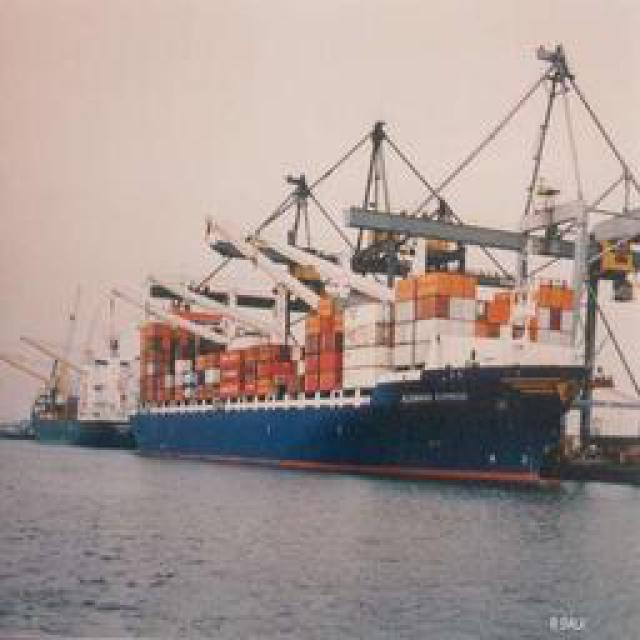Ship: (96, 100, 619, 425)
